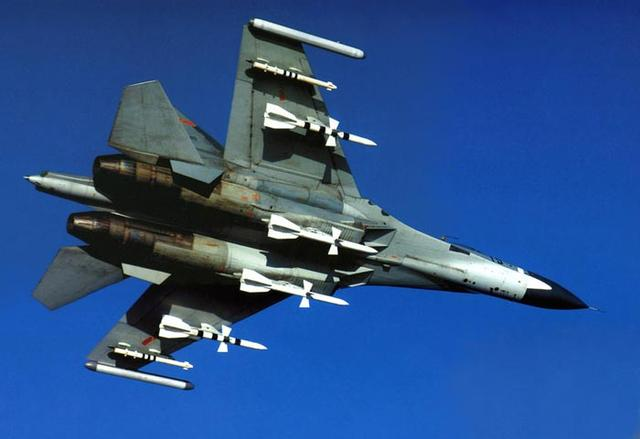airplane: (17, 14, 602, 394)
